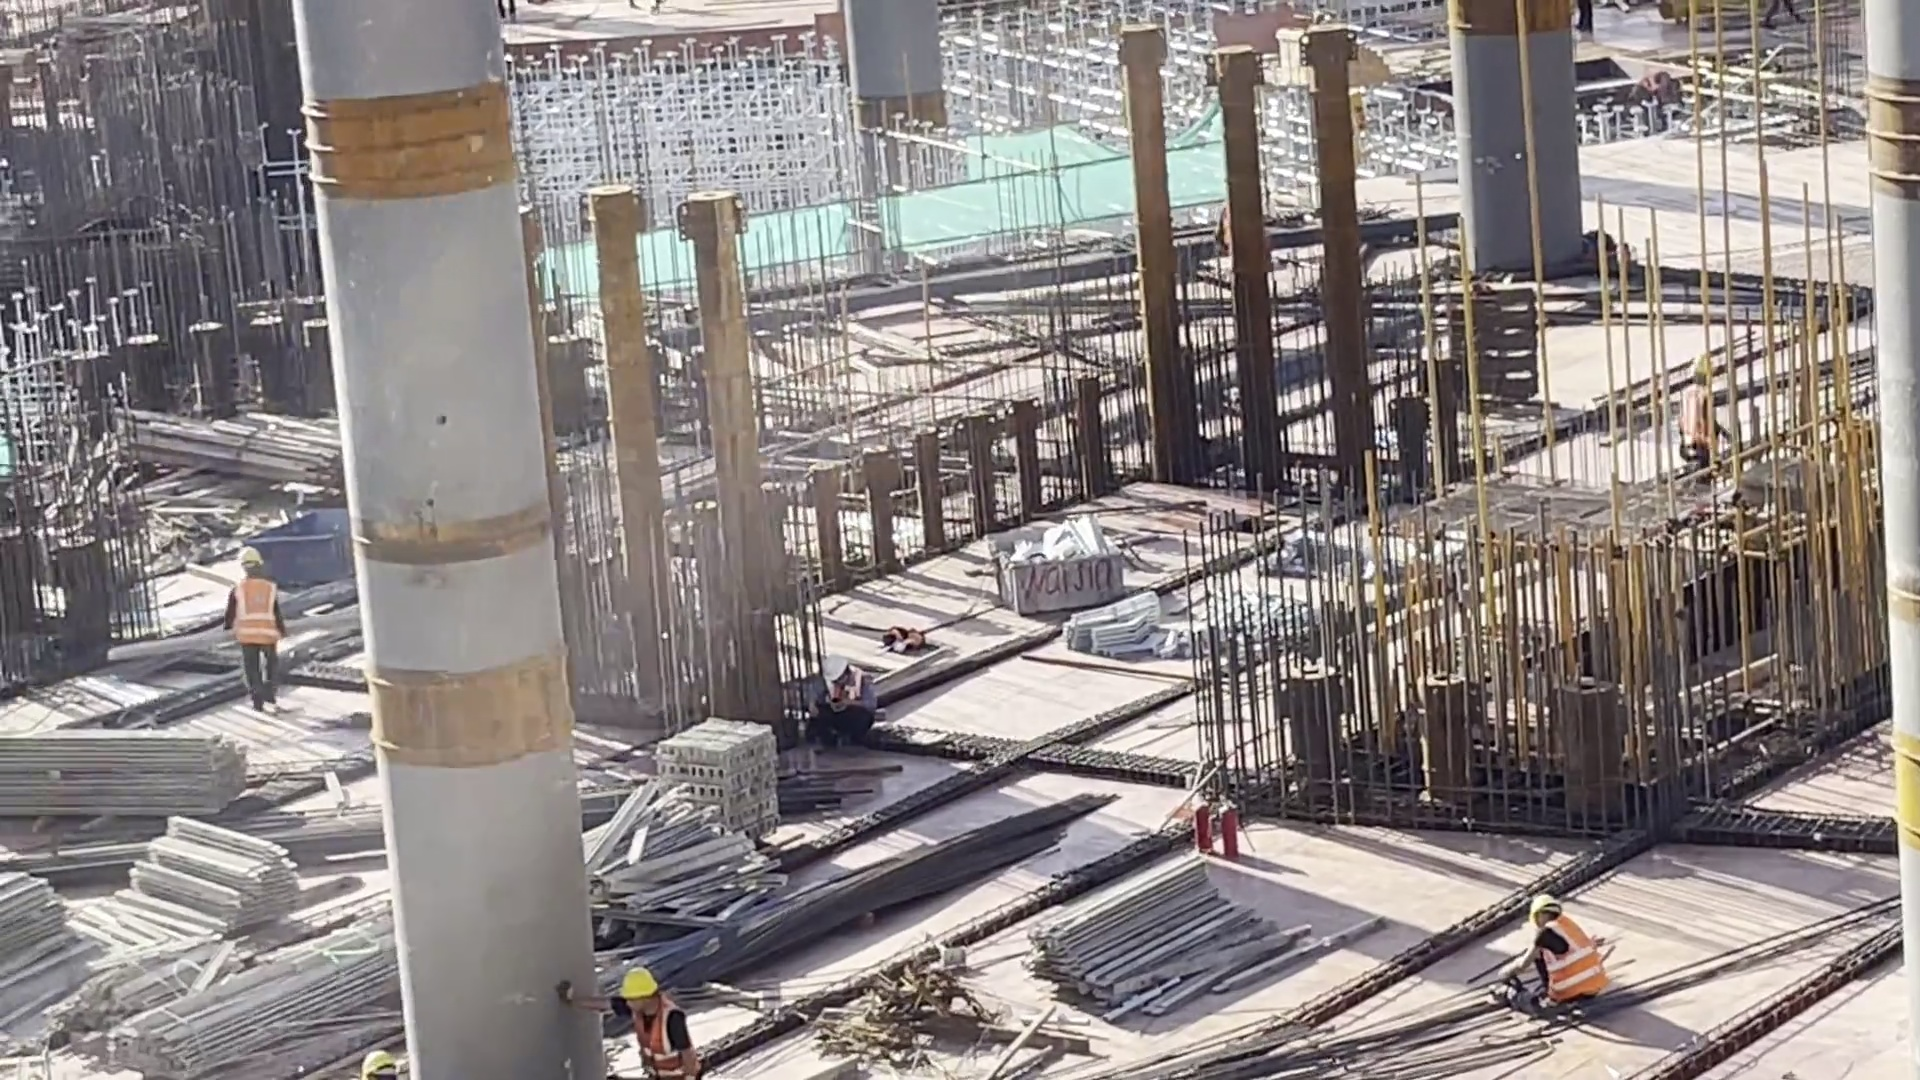helmet: (614, 956, 652, 1002), (233, 539, 271, 579), (817, 646, 852, 683), (1523, 885, 1559, 919), (1693, 360, 1722, 389)
hopper: (999, 515, 1130, 608), (252, 501, 371, 583)
person: (578, 961, 710, 1079), (215, 535, 299, 701), (1524, 897, 1622, 1016), (1656, 346, 1732, 483), (788, 641, 885, 742)
vest: (1537, 915, 1607, 1006), (614, 1005, 682, 1080), (1669, 376, 1721, 448), (226, 576, 271, 657)
wood: (93, 891, 415, 1068), (1023, 852, 1271, 1015), (1, 713, 260, 832), (132, 801, 312, 954)
